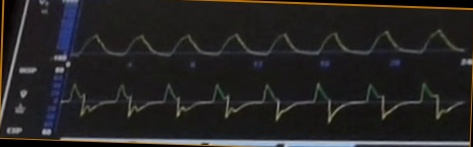Premature_cycling Flow: (65, 75, 463, 131)
Premature_cycling Volume: (75, 17, 464, 57)
